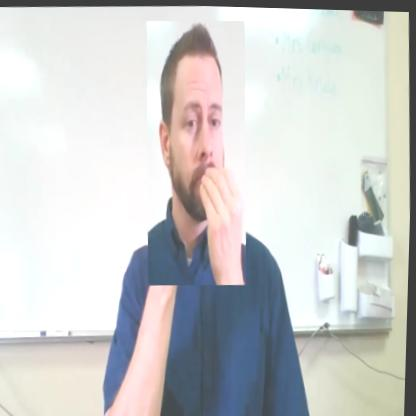Food: (140, 17, 255, 286)
